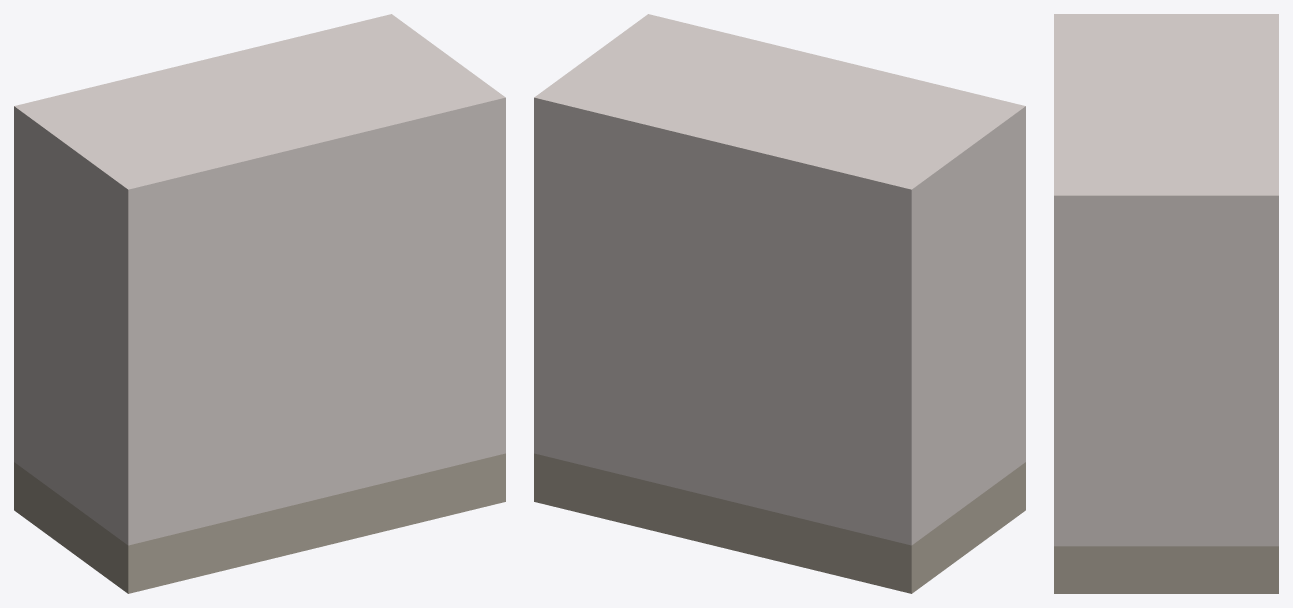
The model's file is fbx_school_outdoor_building2.fbx.
3 renders of one model, left to right at view 1: azimuth 30°, elevation 25°; view 2: azimuth 150°, elevation 25°; view 3: azimuth 270°, elevation 25°, orthographic.
Parts seen in each view (by area): view 1: fbx_school_outdoor_building2; view 2: fbx_school_outdoor_building2; view 3: fbx_school_outdoor_building2.
Part boxes in pixels (x1,y1,x2,y2): fbx_school_outdoor_building2: (14,14,505,593); fbx_school_outdoor_building2: (534,14,1025,593); fbx_school_outdoor_building2: (1054,14,1278,593).
Bounding box in the file's own units: 4.09 × 4.19 × 2.14.
Materials: 1 (1 with a texture image).
